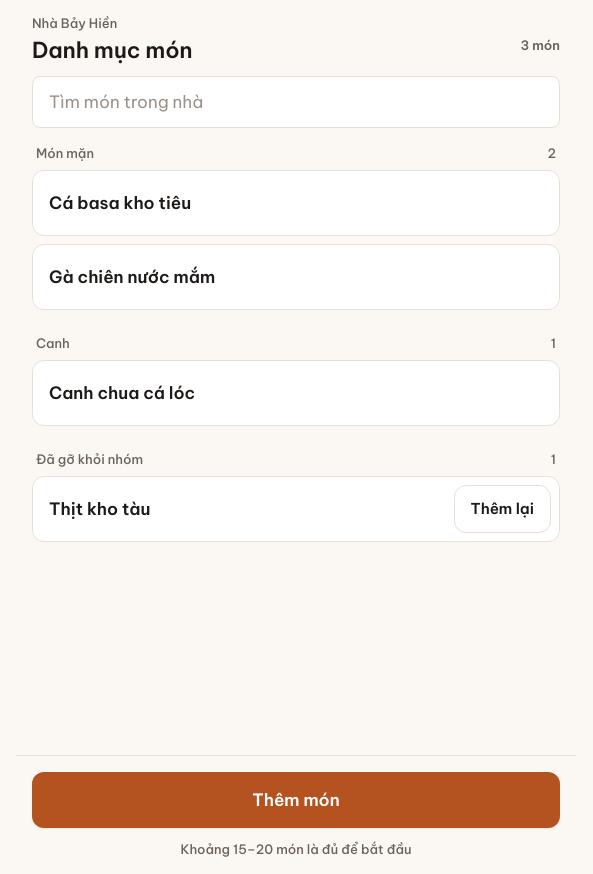
Test: DishCatalogScreen (S-05) › canEdit = true và có inactiveDishes: mục "Đã gỡ khỏi nhóm" hiện, bấm "Thêm lại" gọi reAddAction
Check: the text "Đã gỡ khỏi nhóm" is shown, box left=36, top=450, right=143, bottom=468
Check: the text "Thịt kho tàu" is shown, box left=49, top=497, right=150, bottom=521
Click the button "Thêm lại".
click(502, 509)  # box left=454, top=485, right=551, bottom=533
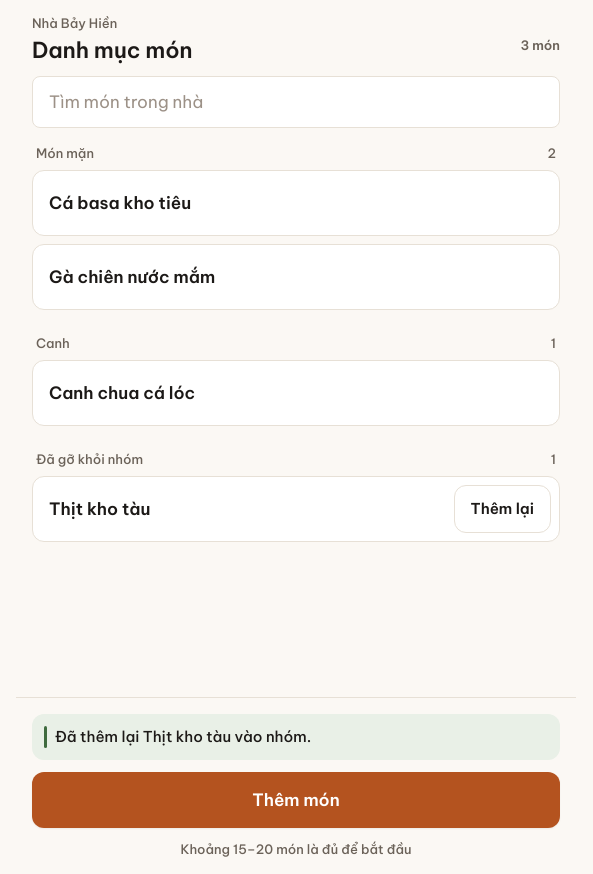
Check: the message "Đã thêm lại Thịt kho tàu vào nhóm." is shown, box left=32, top=714, right=560, bottom=760
Check: the text "Đã thêm lại Thịt kho tàu vào nhóm." is shown, box left=55, top=726, right=311, bottom=748
